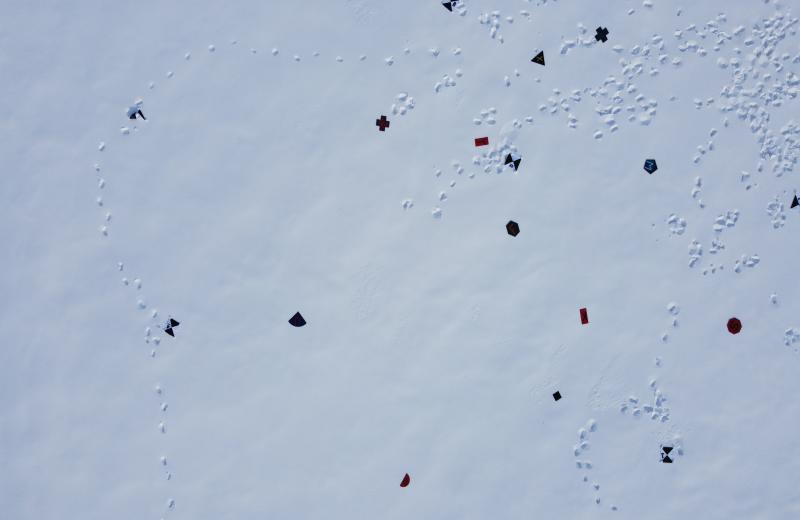Cross: (374, 114, 391, 133), (595, 25, 610, 45)
Hexagon: (505, 220, 520, 238)
Octagon: (726, 317, 742, 335)
Pentagon: (643, 158, 658, 176)
Quarter Circle: (287, 310, 308, 328)
Rectangle: (474, 136, 489, 148), (580, 307, 590, 325)
Semi Circle: (399, 472, 410, 489)
Square: (552, 390, 562, 402)
Triangle: (530, 50, 548, 67)
